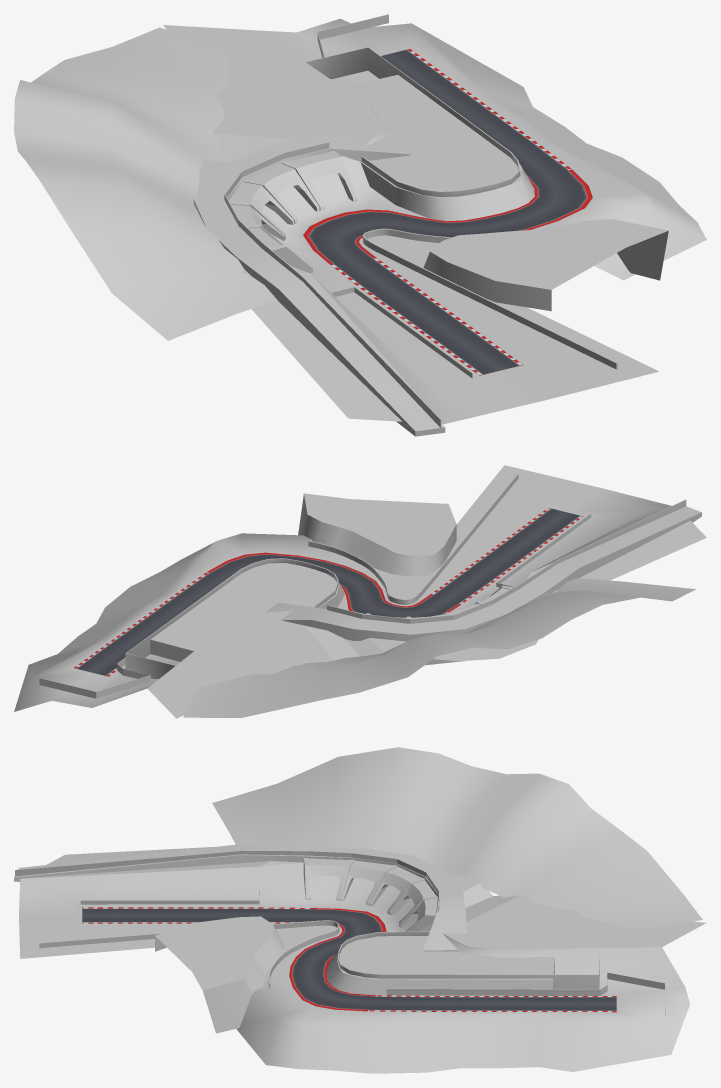
File: Tutorial.fbx
3 views of the same model, one above another, from view 1: azimuth 30°, elevation 25°; view 2: azimuth 150°, elevation 25°; view 3: azimuth 270°, elevation 25° (orthographic). The views are drawn at different scales.
Parts seen in each view (by area): view 1: polySurface2, polySurface59, polySurface1, polySurface3, polySurface5, polySurface61, polySurface55, polySurface35, polySurface4, polySurface62, polySurface60, polySurface63; view 2: polySurface2, polySurface59, polySurface1, polySurface5, polySurface61, polySurface3, polySurface35, polySurface62, polySurface4, polySurface63, polySurface60; view 3: polySurface2, polySurface59, polySurface1, polySurface3, polySurface5, polySurface61, polySurface55, polySurface62, polySurface35, polySurface63, polySurface4, polySurface60.
Boxes of the visible parts, bbox=[...] form: polySurface2: bbox=[163, 18, 706, 424]; polySurface59: bbox=[14, 27, 276, 340]; polySurface1: bbox=[303, 49, 592, 375]; polySurface3: bbox=[342, 75, 534, 220]; polySurface5: bbox=[423, 219, 668, 311]; polySurface61: bbox=[193, 133, 445, 436]; polySurface55: bbox=[229, 151, 357, 273]; polySurface35: bbox=[305, 47, 520, 197]; polySurface4: bbox=[363, 228, 617, 369]; polySurface62: bbox=[224, 142, 441, 427]; polySurface60: bbox=[331, 287, 472, 378]; polySurface63: bbox=[317, 14, 388, 57]; polySurface2: bbox=[14, 465, 706, 718]; polySurface59: bbox=[183, 578, 695, 717]; polySurface1: bbox=[74, 508, 583, 676]; polySurface5: bbox=[298, 493, 456, 576]; polySurface61: bbox=[265, 506, 701, 665]; polySurface3: bbox=[150, 563, 344, 661]; polySurface35: bbox=[125, 558, 338, 678]; polySurface62: bbox=[327, 499, 686, 623]; polySurface4: bbox=[308, 473, 518, 604]; polySurface63: bbox=[39, 658, 150, 698]; polySurface60: bbox=[496, 513, 591, 587]; polySurface2: bbox=[19, 847, 706, 1073]; polySurface59: bbox=[212, 747, 702, 929]; polySurface1: bbox=[82, 907, 616, 1012]; polySurface3: bbox=[326, 936, 554, 994]; polySurface5: bbox=[155, 916, 284, 1033]; polySurface61: bbox=[14, 844, 466, 951]; polySurface55: bbox=[303, 858, 437, 931]; polySurface62: bbox=[15, 850, 439, 911]; polySurface35: bbox=[338, 931, 599, 989]; polySurface63: bbox=[386, 972, 665, 1015]; polySurface4: bbox=[39, 920, 339, 988]; polySurface60: bbox=[80, 889, 259, 904].
Bounding box in the file's own units: 97.4 × 20.67 × 126.
